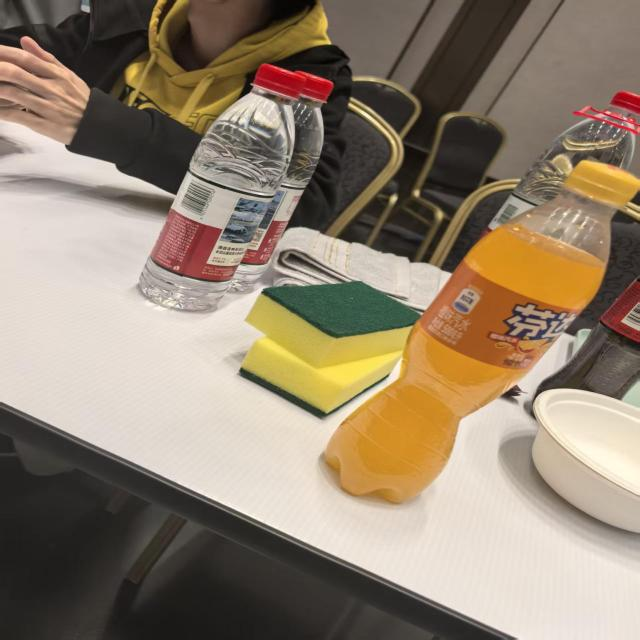orange: (491, 296, 576, 364)
